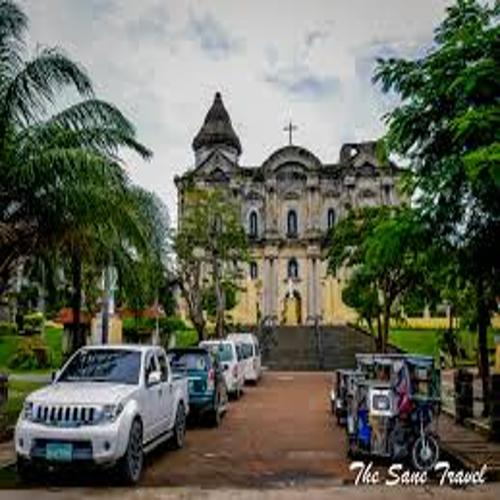Taal Basilica Church: (171, 90, 420, 333)
